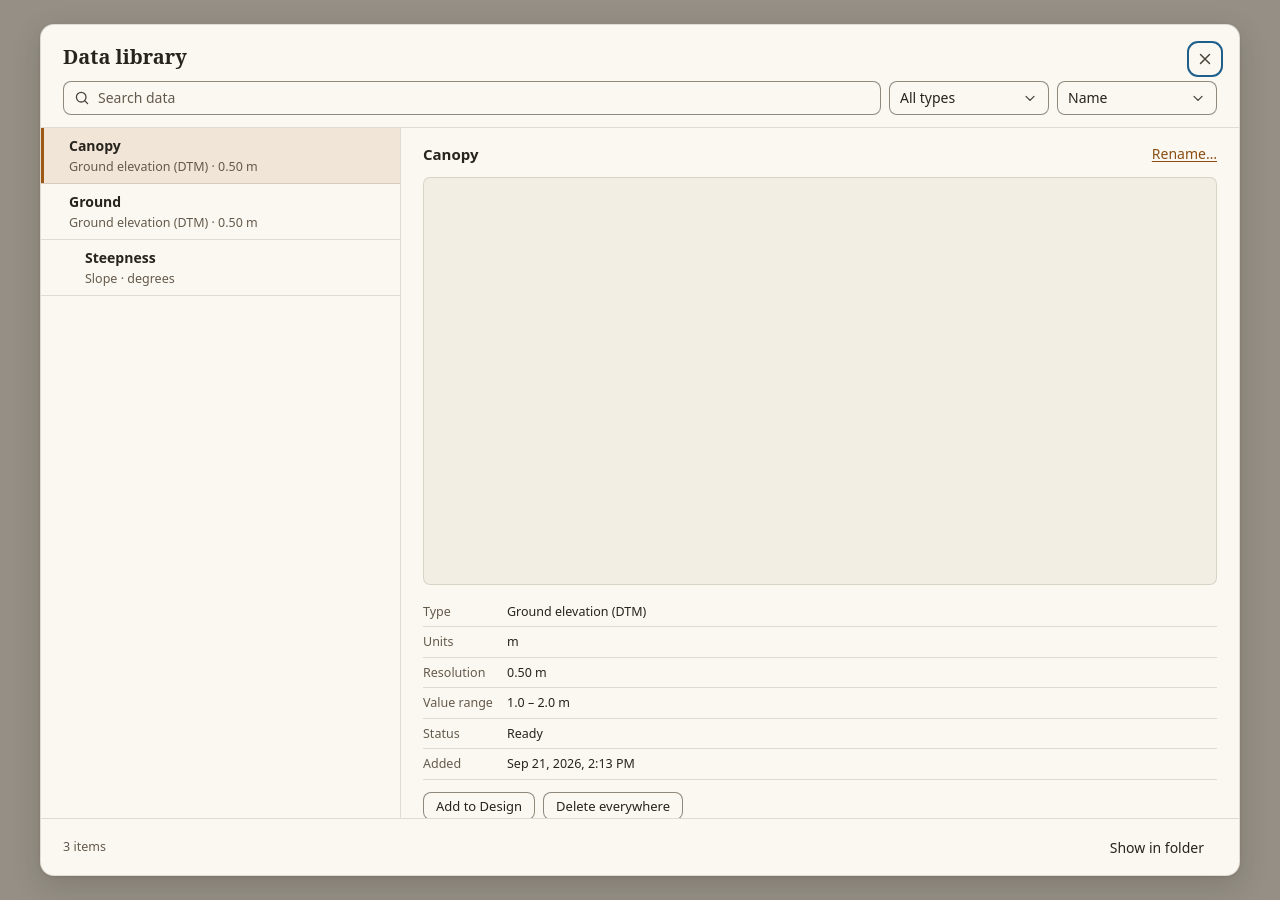
Test: Data library, Import and Analyze dialogs › the Data library sheet › follows a result link to an item the type filter hides, clearing the filter
The width and height of the screenshot is (1280, 900).
Step 1. Click the button "All types" → (969, 98), box [889,81,1049,115]
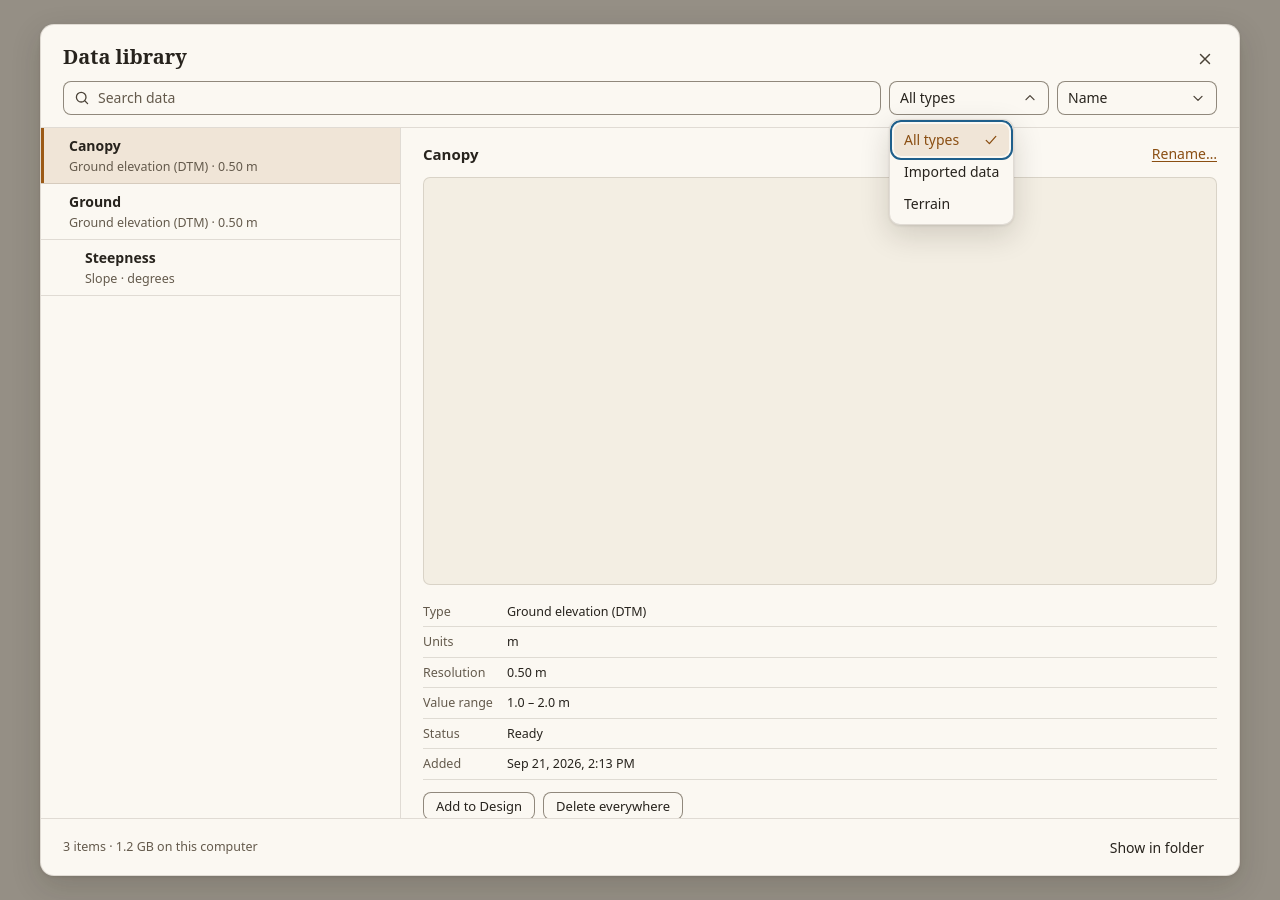
Step 2. Click the option "Imported data" → (952, 172), box [894,156,1009,188]
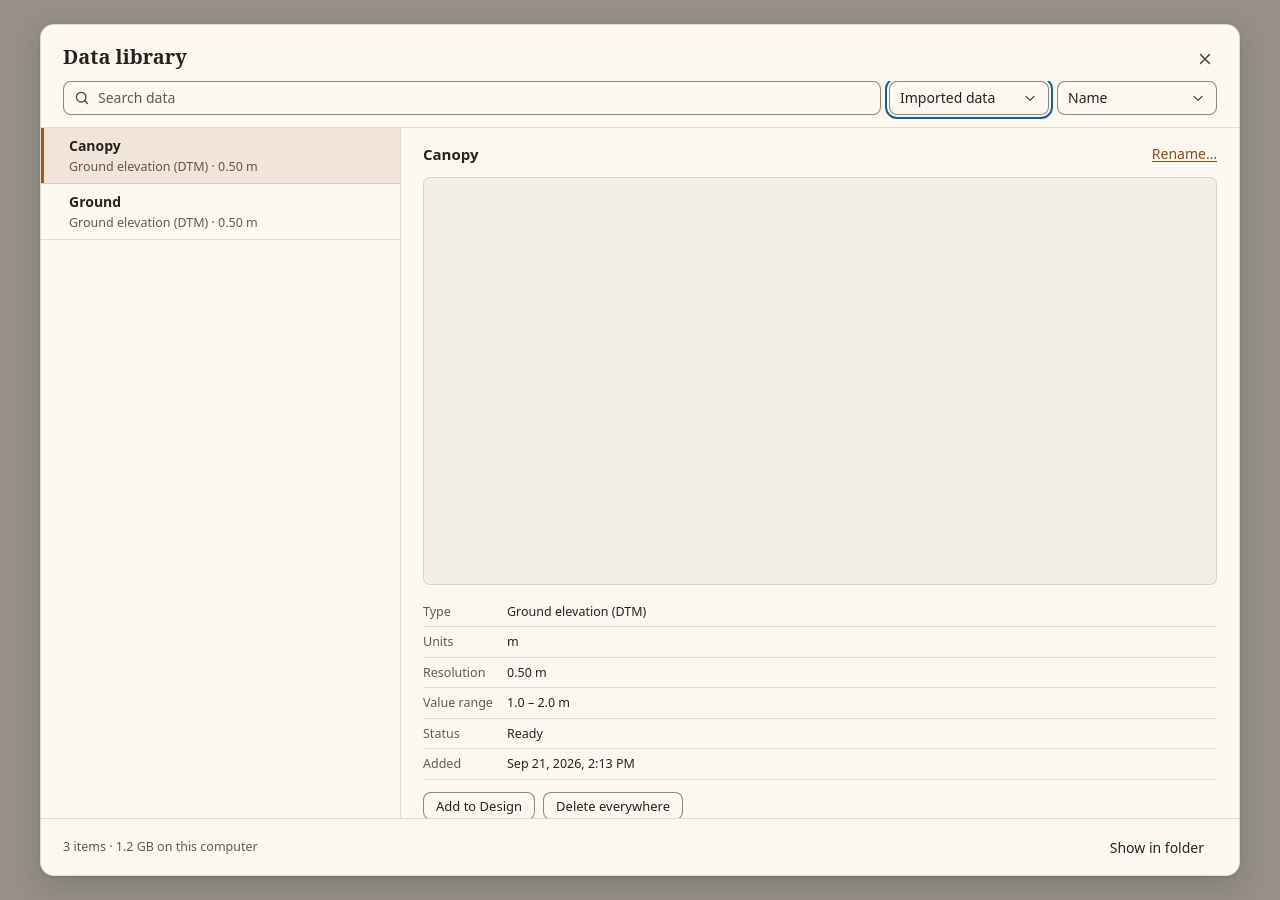
Step 3. Click the option "Ground Ground elevation (DTM) · 0.50 m" → (220, 212), box [41,184,400,240]
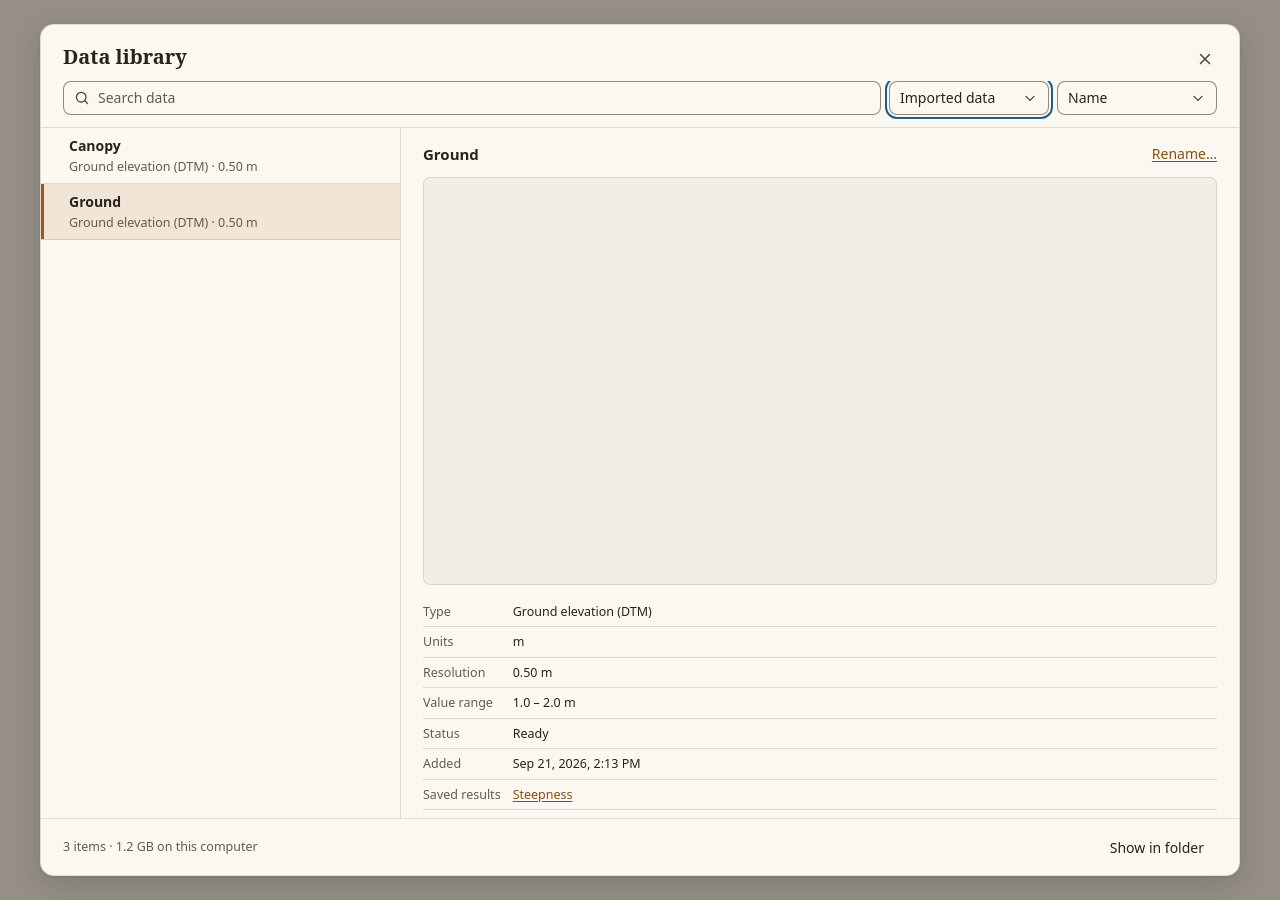
Step 4. Click the button "Steepness" → (543, 795), box [513,786,572,803]
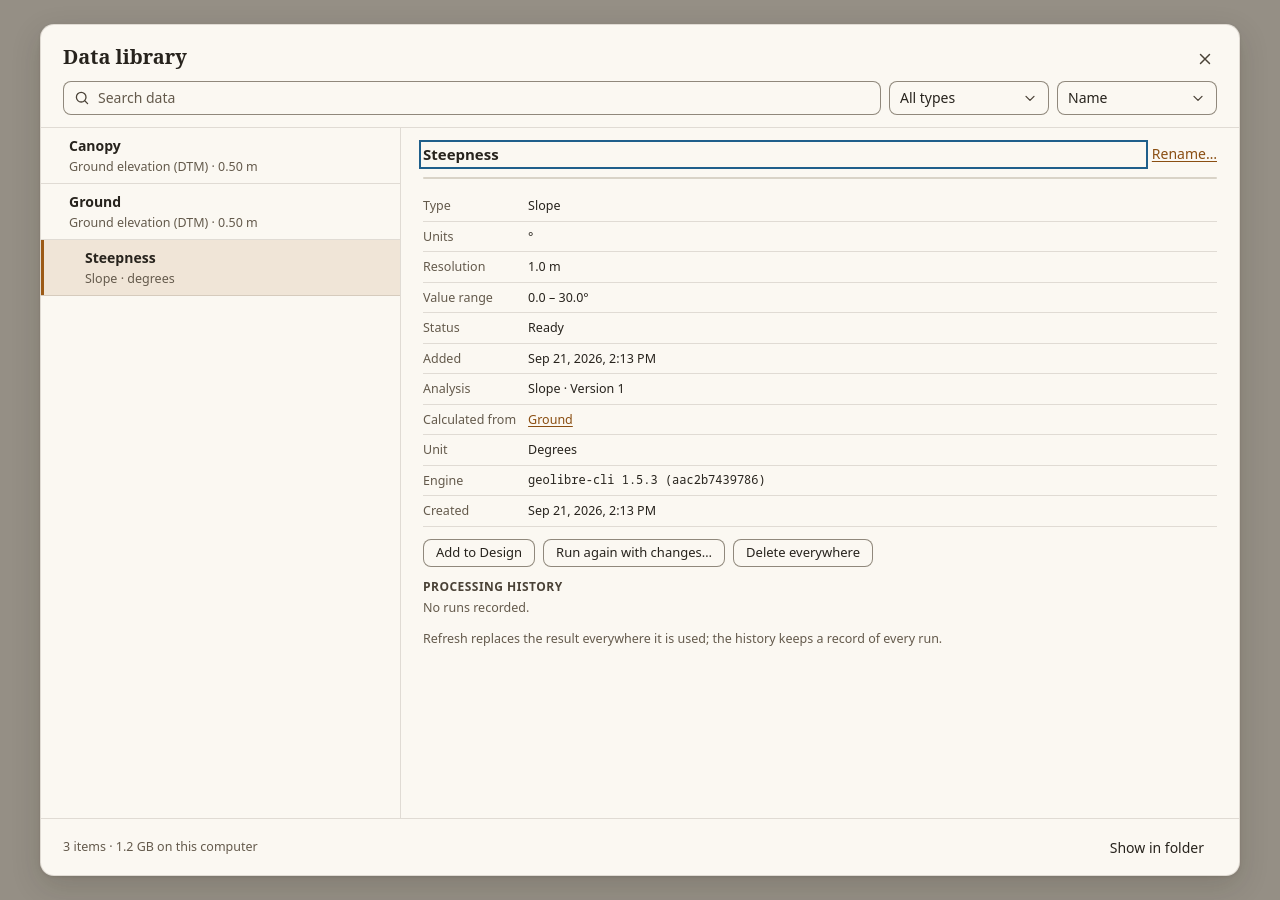
Expected: the text "Steepness" is shown, [85,248,156,267]
Expected: the button "All types" is shown, [889,81,1049,115]
